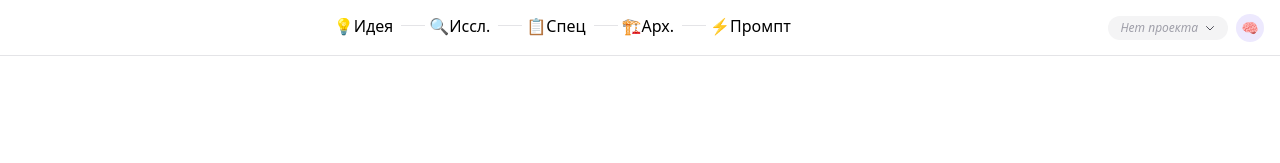
Test: B. Dropdown — project list rendered › shows "Проектов пока нет" when projects list is empty
The image size is (1280, 163).
// open dropdown via the "Нет проекта" trigger button
Click the button "Нет проекта": point(1168, 28) [1108,16,1228,40]
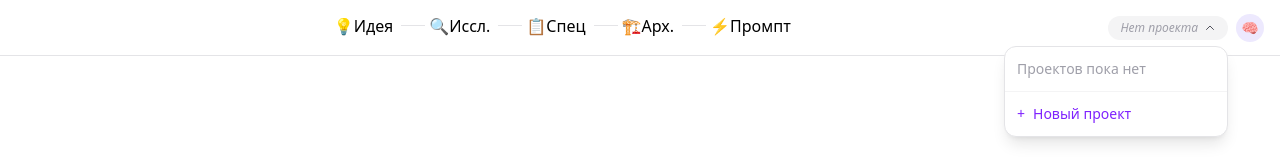
expect the text "Проектов пока нет" is shown: met, box [1017,58,1146,78]
